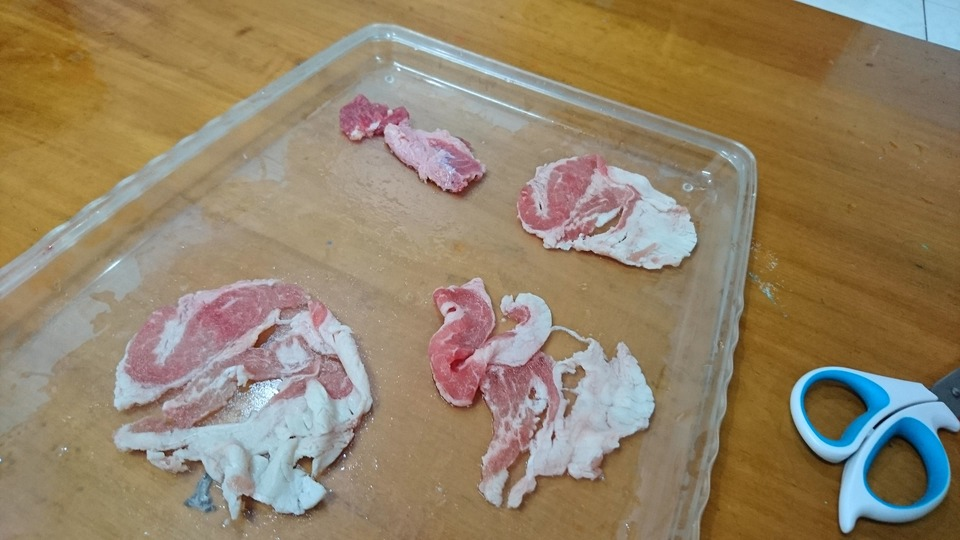restructured meat: (111, 275, 378, 528), (423, 273, 667, 510), (520, 146, 706, 271), (340, 95, 482, 198)
